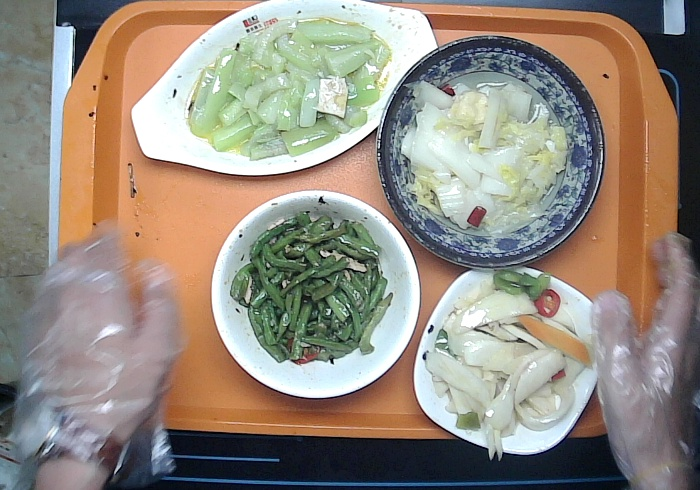ZNLD-Qing_Hua_Wan: (372, 32, 610, 271)
ZNLD-Si_Fang_Wan: (410, 263, 607, 458)
ZNLD-Tang_Wan: (208, 186, 422, 402)
ZNLD-Yu_Pan: (129, 1, 442, 179)
